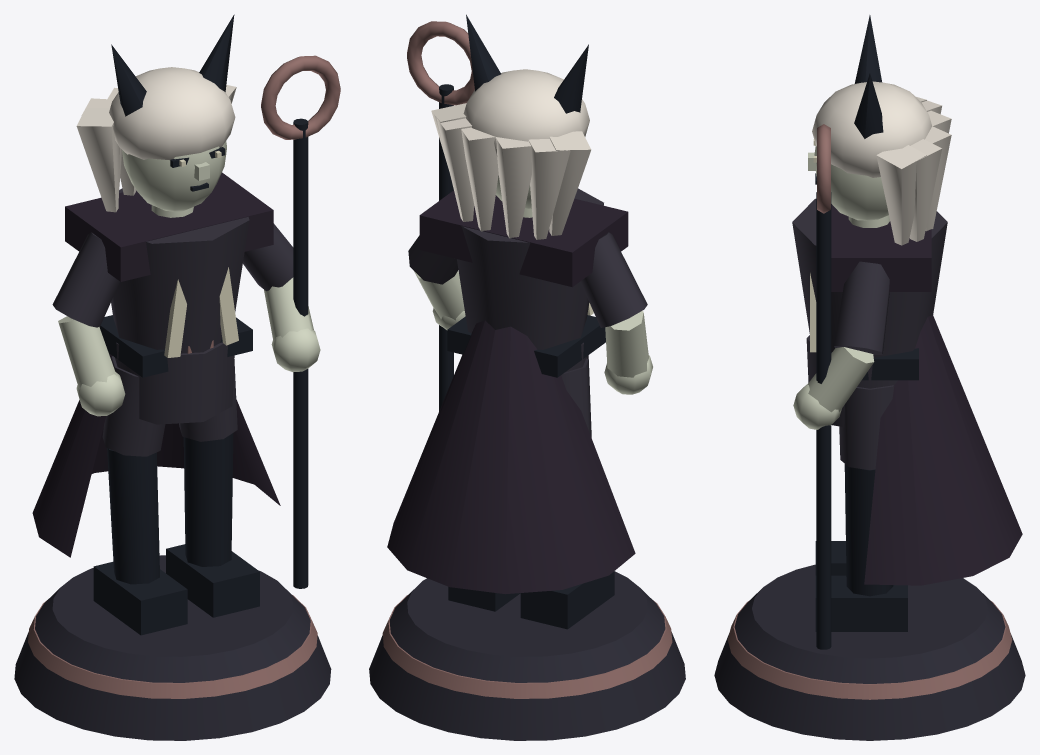
Rendered from lucifero.glb.
The picture shows the model from 3 angles, left to right: view 1: azimuth 30°, elevation 25°; view 2: azimuth 150°, elevation 25°; view 3: azimuth 270°, elevation 25°; orthographic projection. The views are drawn at different scales.
Visible parts, largest first — view 1: Placeholder Lucifero; view 2: Placeholder Lucifero; view 3: Placeholder Lucifero.
Boxes of the visible parts, box(x1,y1,x2,y2) form: Placeholder Lucifero: box(14, 14, 340, 740); Placeholder Lucifero: box(369, 14, 685, 740); Placeholder Lucifero: box(714, 15, 1025, 740).
Size of the model in its own units: 0.553 by 1.21 by 0.54.
